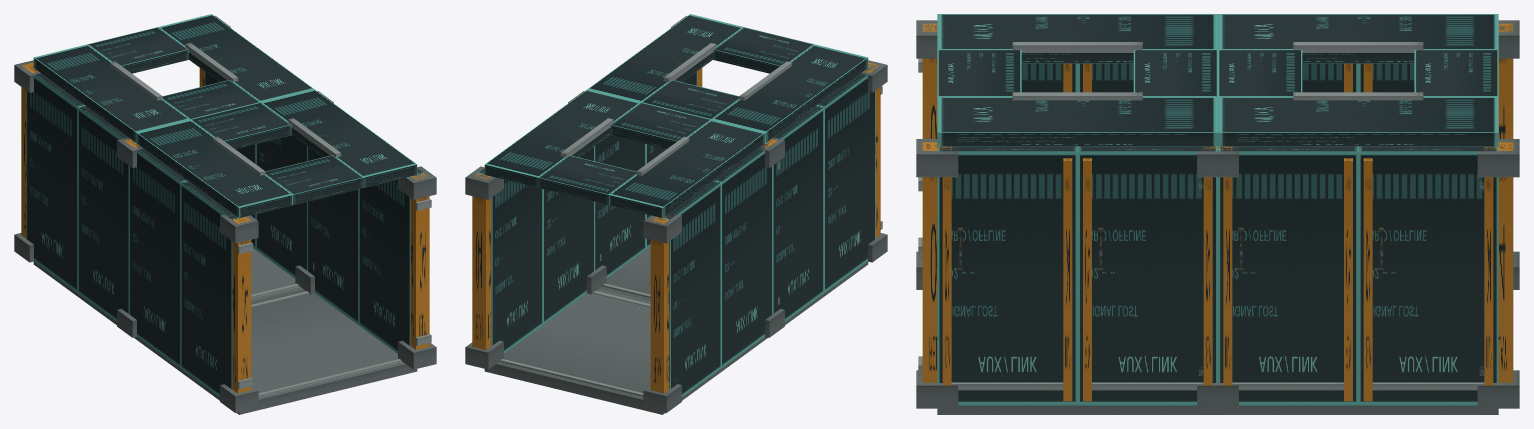
The model's file is ServiceCorridor_LOD2.obj.
3 views of the same model, side by side, from view 1: azimuth 30°, elevation 25°; view 2: azimuth 150°, elevation 25°; view 3: azimuth 270°, elevation 25° (orthographic). The views are drawn at different scales.
Parts seen in each view (by area): view 1: 010_roof_skylight_4m.002, 011_roof_skylight_4m.002, 000_floor_4m.014, 002_wall_solid_2m.002, 003_wall_solid_2m.002, 005_wall_solid_2m.002, 004_wall_solid_2m.002, 006_wall_solid_2m.002, 007_wall_solid_2m.002, 012_column_4m.014, 015_column_4m.014, 008_wall_solid_2m.002 (+5 smaller); view 2: 011_roof_skylight_4m.002, 010_roof_skylight_4m.002, 001_floor_4m.006, 005_wall_solid_2m.002, 004_wall_solid_2m.002, 002_wall_solid_2m.002, 003_wall_solid_2m.002, 009_wall_solid_2m.002, 008_wall_solid_2m.002, 014_column_4m.014, 017_column_4m.006, 007_wall_solid_2m.002 (+5 smaller); view 3: 009_wall_solid_2m.002, 007_wall_solid_2m.002, 006_wall_solid_2m.002, 008_wall_solid_2m.002, 010_roof_skylight_4m.002, 011_roof_skylight_4m.002, 015_column_4m.014, 017_column_4m.006, 000_floor_4m.014, 001_floor_4m.006, 012_column_4m.014, 014_column_4m.014 (+5 smaller).
Boxes of the visible parts, bbox=[...] form: 010_roof_skylight_4m.002: bbox=[136, 89, 417, 218]; 011_roof_skylight_4m.002: bbox=[33, 14, 313, 142]; 000_floor_4m.014: bbox=[136, 289, 417, 414]; 002_wall_solid_2m.002: bbox=[180, 180, 238, 397]; 003_wall_solid_2m.002: bbox=[129, 143, 187, 368]; 005_wall_solid_2m.002: bbox=[26, 68, 84, 293]; 004_wall_solid_2m.002: bbox=[78, 105, 135, 321]; 006_wall_solid_2m.002: bbox=[359, 168, 423, 353]; 007_wall_solid_2m.002: bbox=[307, 146, 358, 324]; 012_column_4m.014: bbox=[220, 214, 258, 412]; 015_column_4m.014: bbox=[398, 166, 436, 369]; 008_wall_solid_2m.002: bbox=[256, 135, 307, 278]; 011_roof_skylight_4m.002: bbox=[484, 89, 765, 218]; 010_roof_skylight_4m.002: bbox=[588, 14, 868, 142]; 001_floor_4m.006: bbox=[484, 289, 765, 414]; 005_wall_solid_2m.002: bbox=[663, 180, 721, 397]; 004_wall_solid_2m.002: bbox=[714, 143, 772, 368]; 002_wall_solid_2m.002: bbox=[817, 68, 875, 293]; 003_wall_solid_2m.002: bbox=[766, 105, 823, 321]; 009_wall_solid_2m.002: bbox=[478, 168, 542, 353]; 008_wall_solid_2m.002: bbox=[543, 146, 594, 324]; 014_column_4m.014: bbox=[643, 214, 681, 412]; 017_column_4m.006: bbox=[465, 166, 503, 369]; 007_wall_solid_2m.002: bbox=[594, 135, 645, 278]; 009_wall_solid_2m.002: bbox=[1358, 146, 1498, 405]; 007_wall_solid_2m.002: bbox=[1077, 146, 1217, 405]; 006_wall_solid_2m.002: bbox=[937, 146, 1077, 405]; 008_wall_solid_2m.002: bbox=[1218, 146, 1358, 405]; 010_roof_skylight_4m.002: bbox=[937, 14, 1217, 146]; 011_roof_skylight_4m.002: bbox=[1218, 14, 1498, 146]; 015_column_4m.014: bbox=[916, 139, 958, 408]; 017_column_4m.006: bbox=[1477, 139, 1519, 408]; 000_floor_4m.014: bbox=[937, 405, 1217, 414]; 001_floor_4m.006: bbox=[1218, 405, 1498, 414]; 012_column_4m.014: bbox=[916, 20, 937, 289]; 014_column_4m.014: bbox=[1498, 20, 1519, 289].
Size of the model in its own units: 4.52 by 4.51 by 8.6.
Materials: 1 (1 with a texture image).
